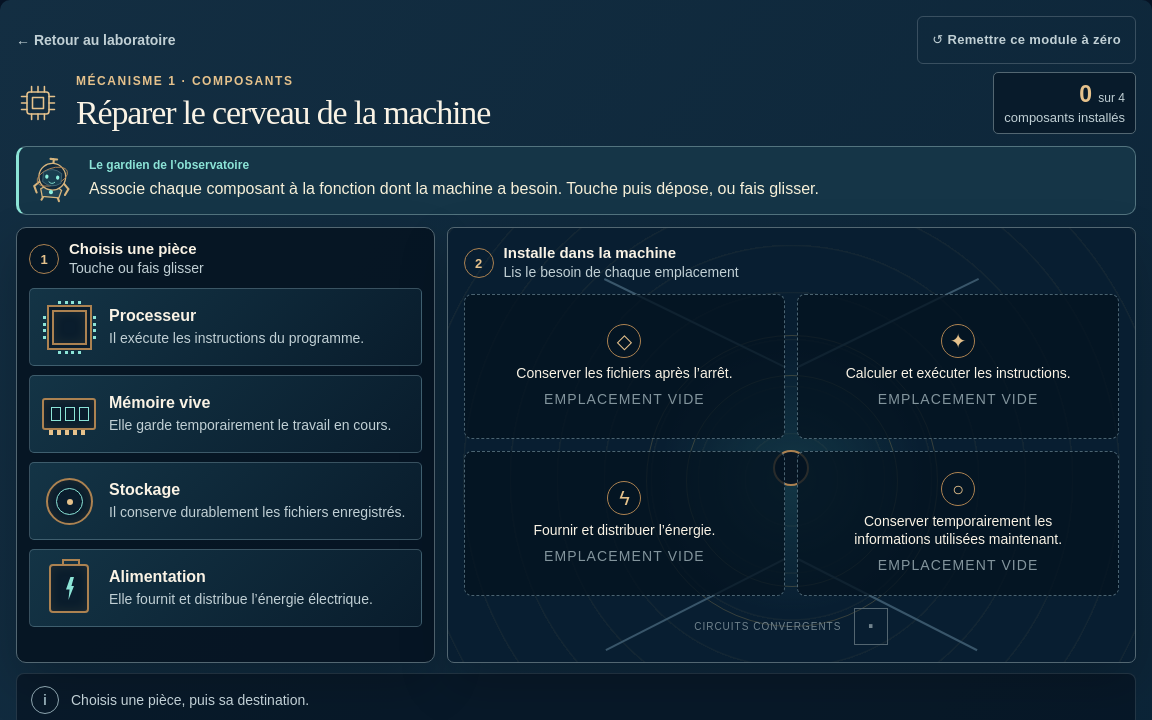
Test: mission numérique Composants › permet l’alternative sélectionner puis déposer et verrouille la bonne pièce
Click the button "Processeur Il exécute les instructions du programme.": coordinates (225, 327) 29,288 -> 422,366
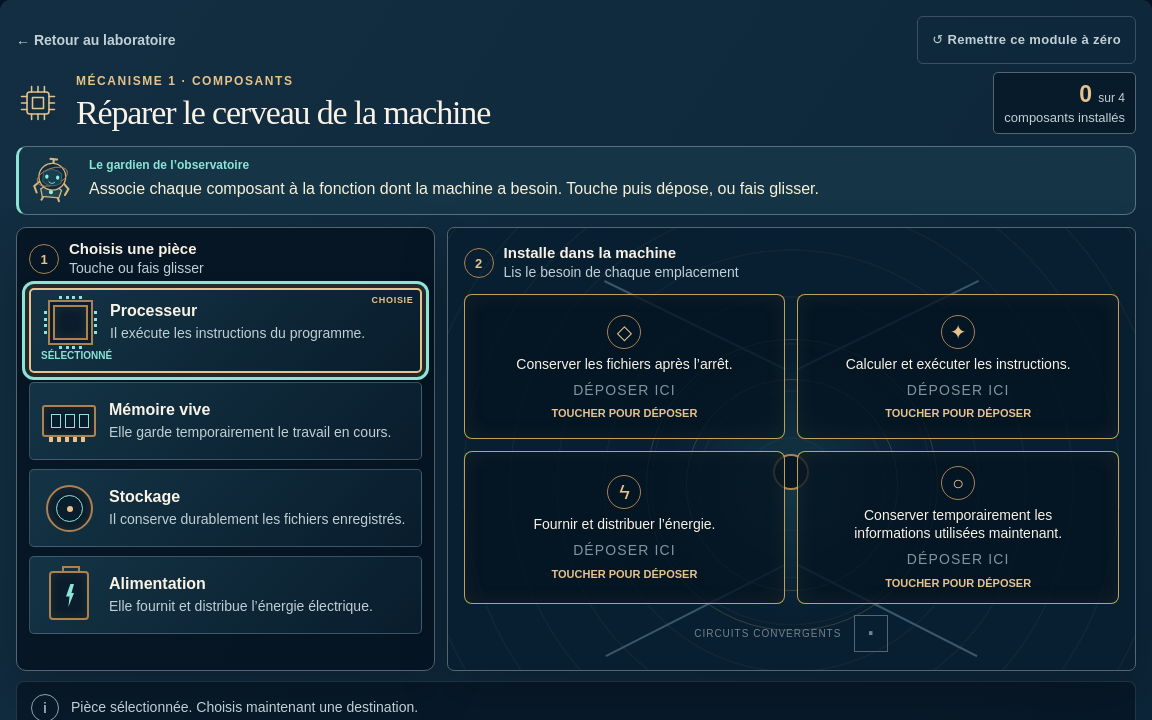
Click the button "✦ Calculer et exécuter les instructions. Déposer ici": coordinates (958, 367) 797,294 -> 1119,439
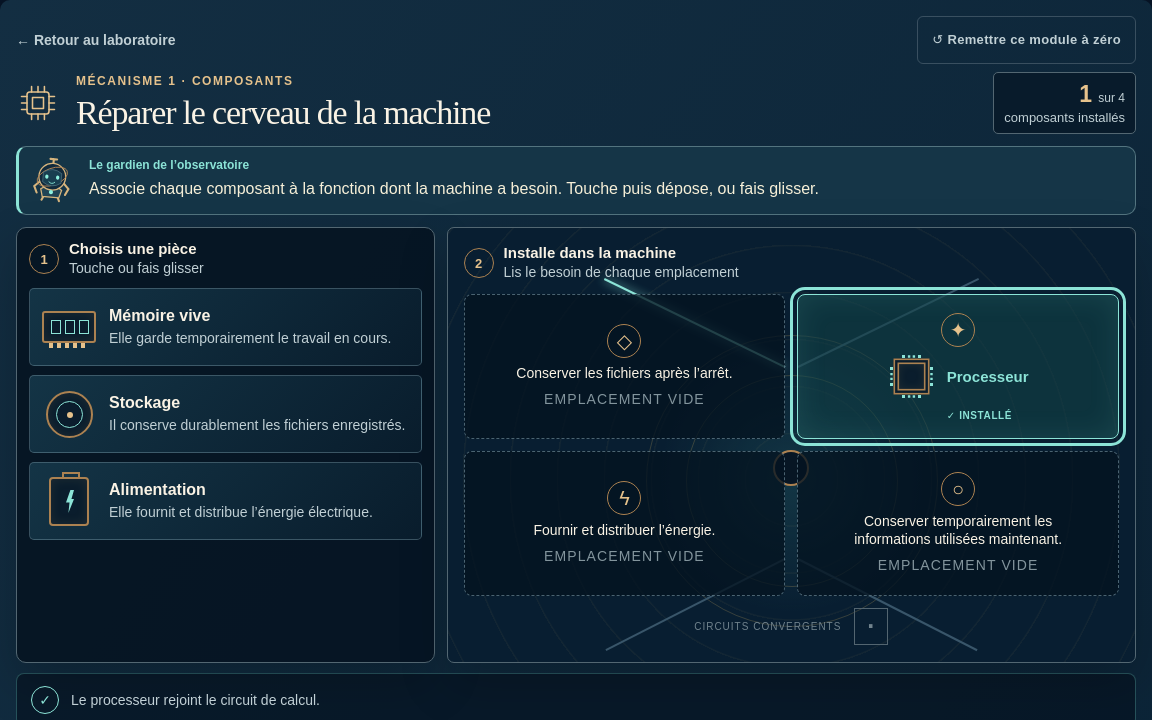
Result: the element named "1 composant installé sur 4" is shown at 993,72 -> 1136,134
Result: the button "Processeur Il exécute les instructions du programme." is gone
